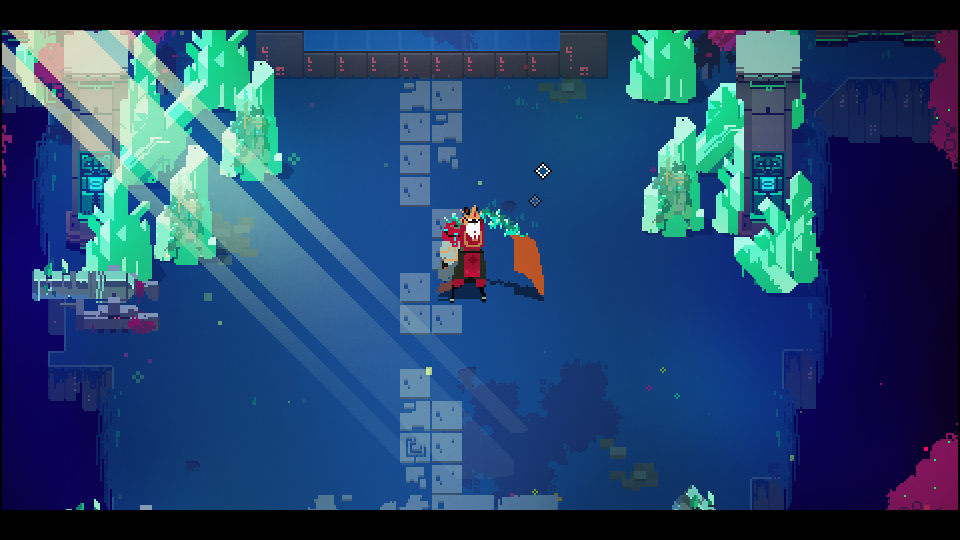hanged_man: (429, 204, 531, 299)
